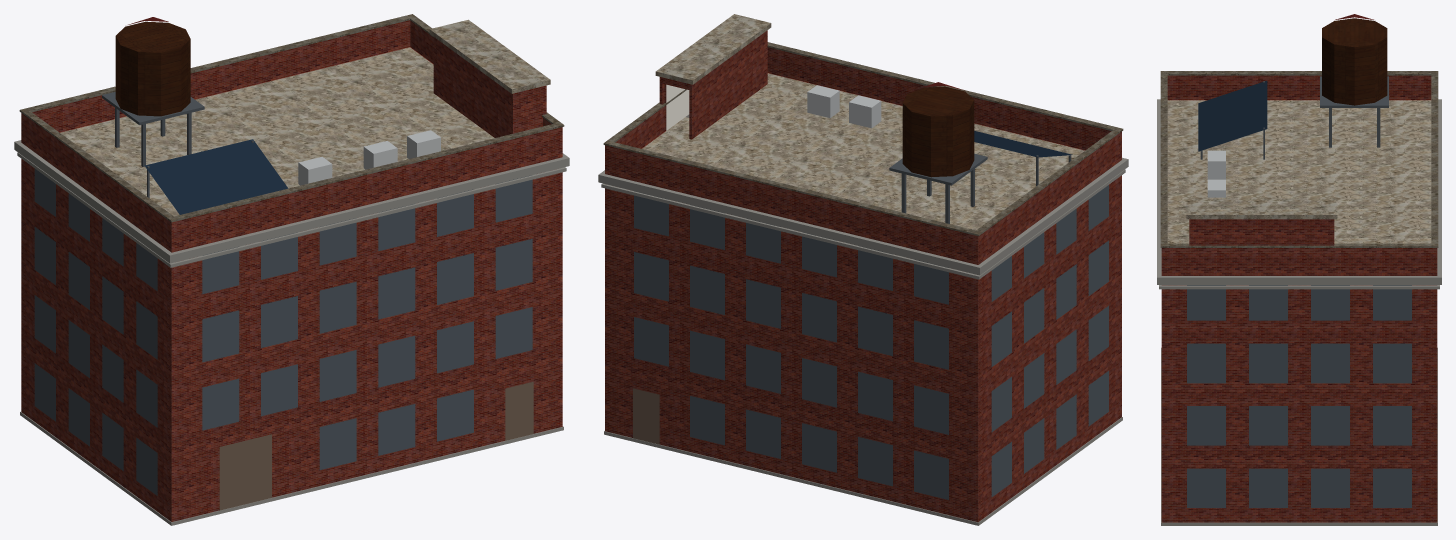
Rendered from mh-mill-lofts.towns-v1.lod1.glb.
3 views of the same model, side by side, from view 1: azimuth 30°, elevation 25°; view 2: azimuth 150°, elevation 25°; view 3: azimuth 270°, elevation 25° (orthographic). The views are drawn at different scales.
Visible parts, largest first — view 1: mh-mill-lofts; view 2: mh-mill-lofts; view 3: mh-mill-lofts.
Part boxes in pixels (box(x1,y1,x2,y2)): mh-mill-lofts: box(14, 14, 569, 525); mh-mill-lofts: box(598, 14, 1128, 525); mh-mill-lofts: box(1157, 14, 1441, 525).
Size of the model in its own units: 18.4 by 18.05 by 12.4.
4 materials, 3 textured.
